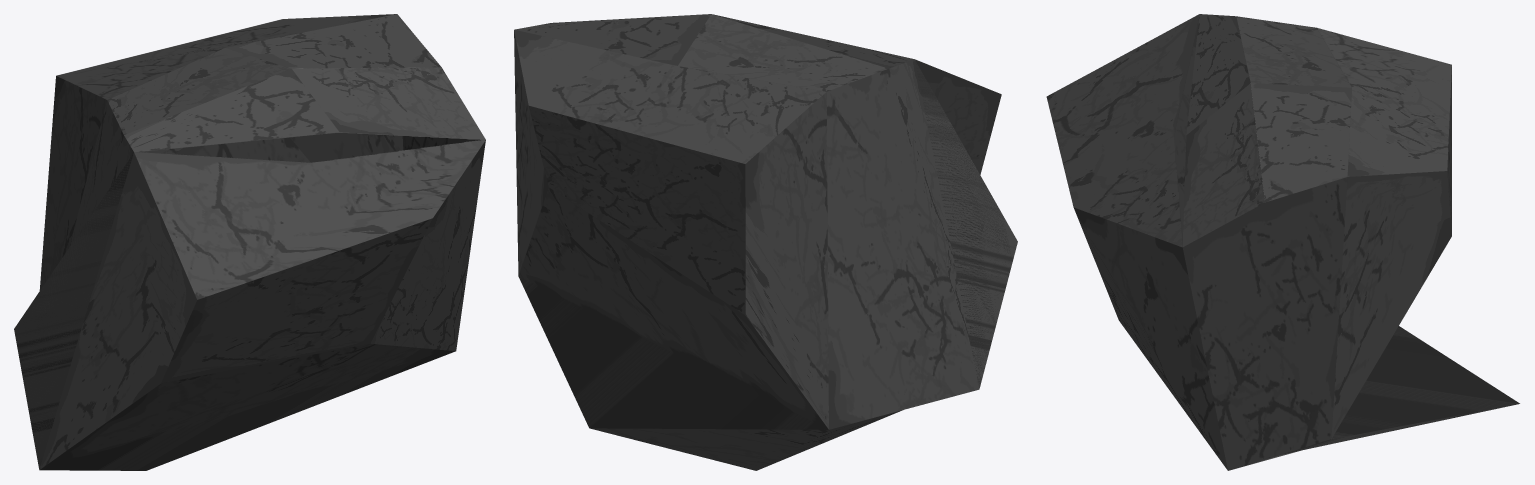
File: rock5.fbx
3 views of the same model, side by side, from view 1: azimuth 30°, elevation 25°; view 2: azimuth 150°, elevation 25°; view 3: azimuth 270°, elevation 25° (orthographic). The views are drawn at different scales.
Parts seen in each view (by area): view 1: Cube; view 2: Cube; view 3: Cube.
Boxes of the visible parts, x1,y1,x2,y2 form: Cube: (14,14,485,470); Cube: (514,14,1017,470); Cube: (1046,14,1519,470).
Bounding box in the file's own units: 20867 × 17417 × 18705.
Materials: 1 (1 with a texture image).
